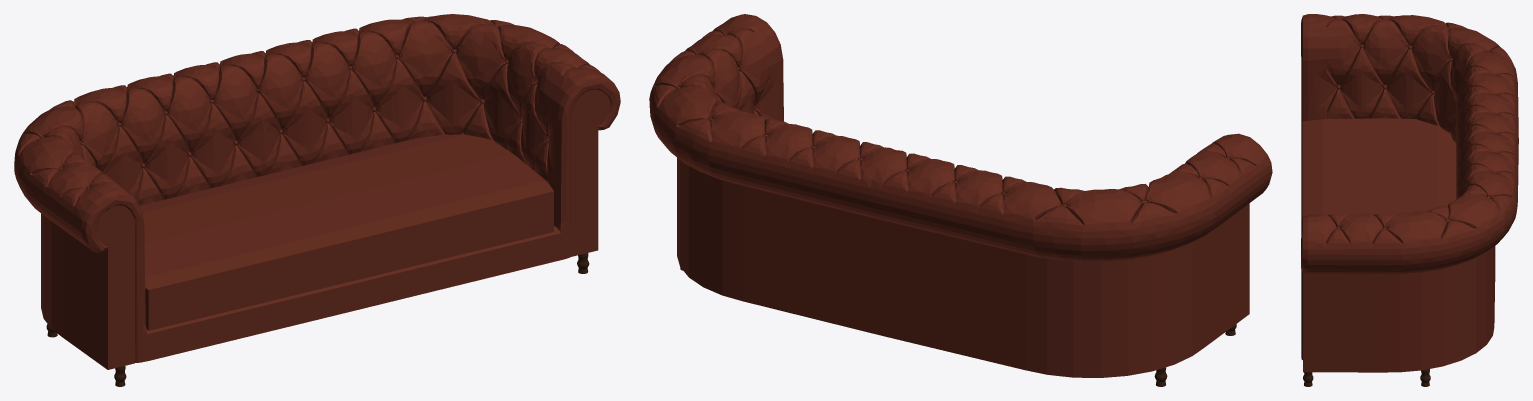
The model's file is winchesterSofa.obj.
3 views of the same model, side by side, from view 1: azimuth 30°, elevation 25°; view 2: azimuth 150°, elevation 25°; view 3: azimuth 270°, elevation 25° (orthographic). The views are drawn at different scales.
Parts seen in each view (by area): view 1: Circle, Cube_Cube.001, Circle.002_Circle.003; view 2: Circle.002_Circle.003, Circle; view 3: Circle, Circle.002_Circle.003, Cube_Cube.001.
Boxes of the visible parts, <box> form: Circle: <box>14,14,620,362</box>; Cube_Cube.001: <box>139,132,553,330</box>; Circle.002_Circle.003: <box>41,89,610,369</box>; Circle.002_Circle.003: <box>677,157,1249,377</box>; Circle: <box>649,14,1272,261</box>; Circle: <box>1301,14,1518,359</box>; Circle.002_Circle.003: <box>1303,111,1495,372</box>; Cube_Cube.001: <box>1302,118,1456,216</box>.
Size of the model in its own units: 232 by 80.43 by 93.77.
